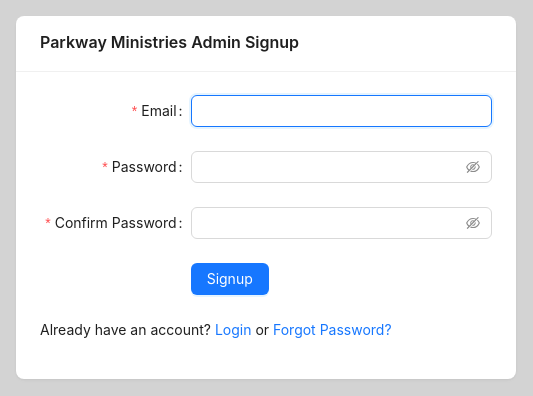
Scenario: Signup Page › Require valid email
In the field labelled "Email": coordinates (341, 110) top-left (191, 94), bottom-right (492, 126), type "invalidemail"
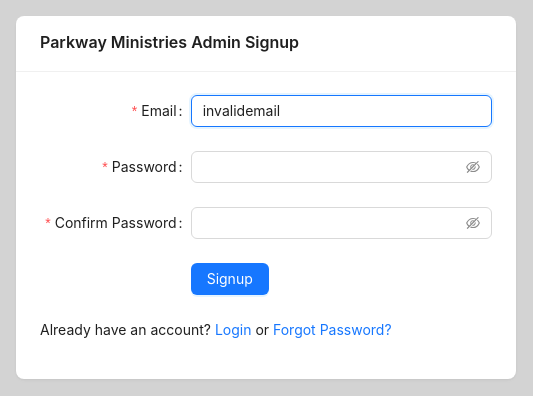
Click the button "Signup": coordinates (230, 278) top-left (191, 262), bottom-right (269, 294)
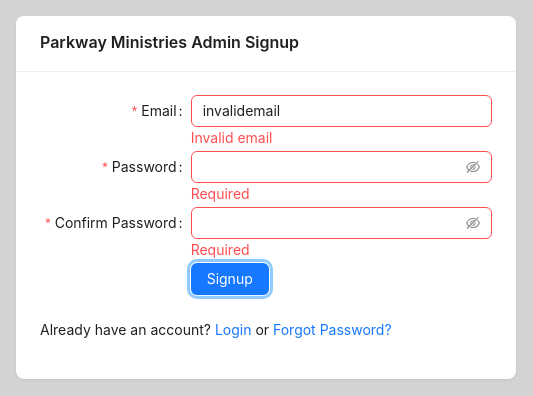
Result: the text "Invalid email" is shown at top-left (191, 128), bottom-right (273, 146)
